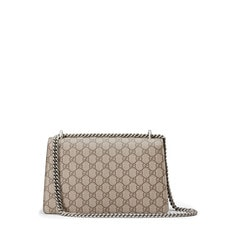Gucci: (44, 130, 181, 235), (69, 147, 165, 223)
